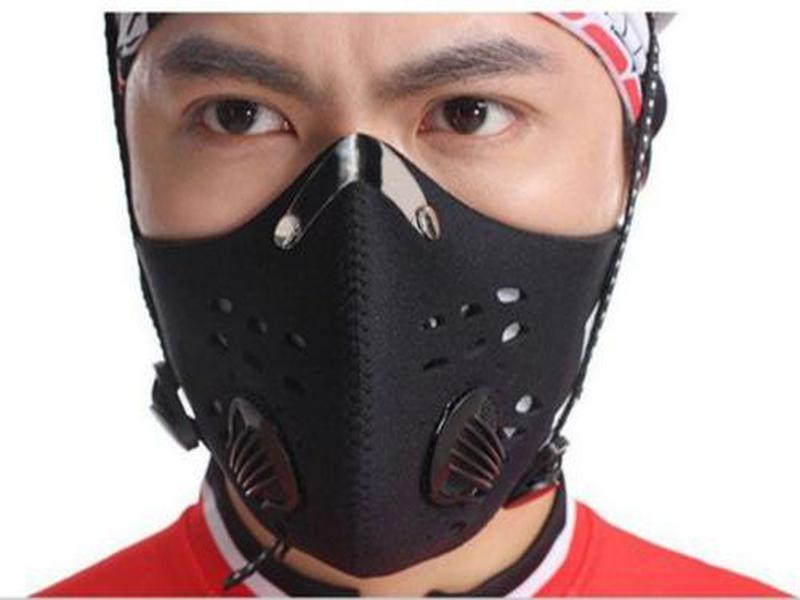with_mask: (123, 12, 620, 579)
